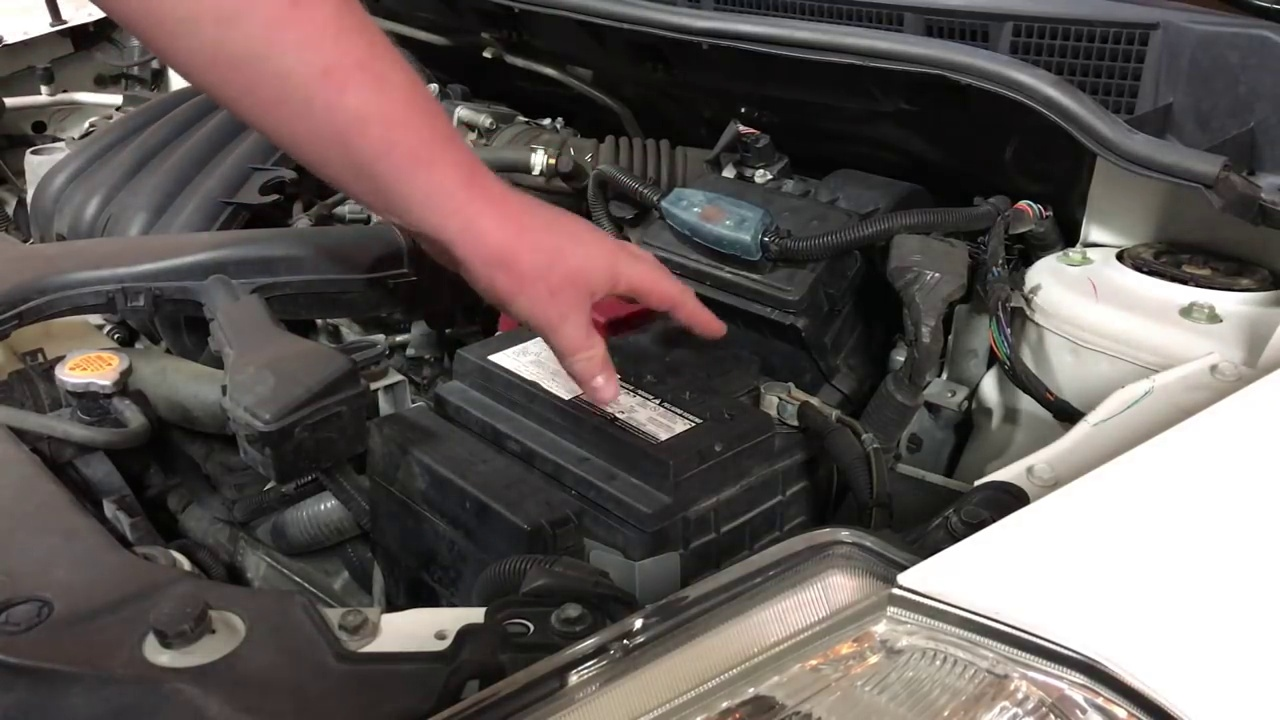battery: (448, 300, 808, 471)
neg_connected: (743, 360, 849, 447)
pos_touched: (470, 238, 664, 353)
